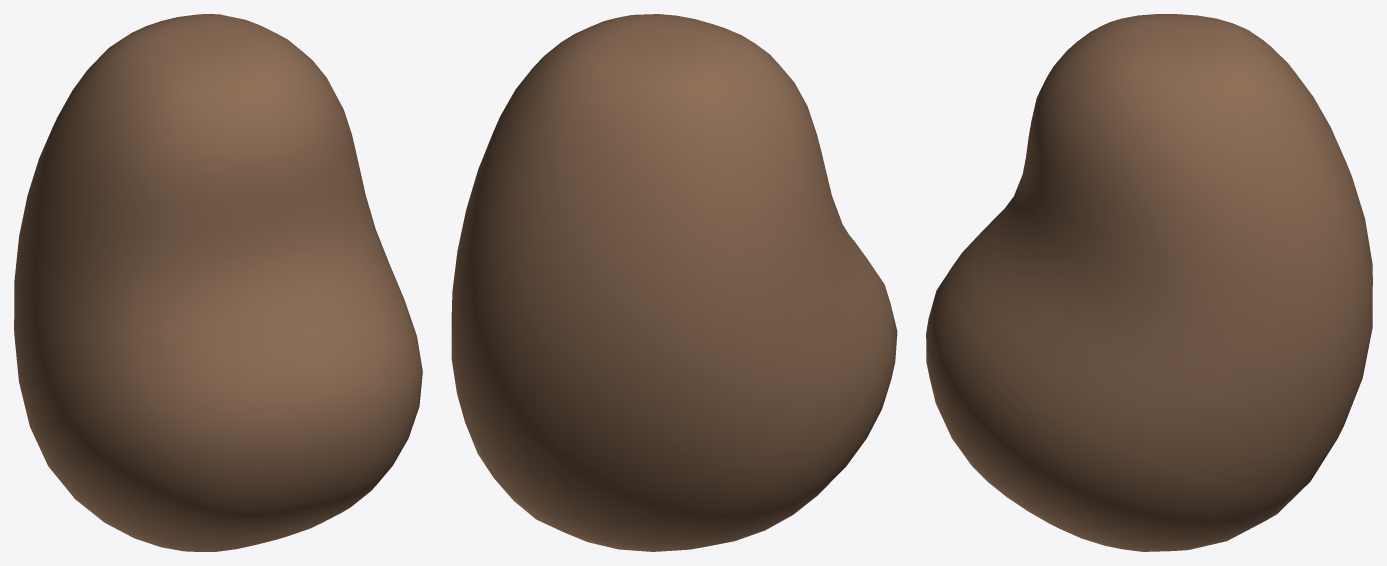
Rendered from potato_01.fbx.
3 renders of one model, left to right at view 1: azimuth 30°, elevation 25°; view 2: azimuth 150°, elevation 25°; view 3: azimuth 270°, elevation 25°, orthographic. The views are drawn at different scales.
Parts seen in each view (by area): view 1: Cube.042; view 2: Cube.042; view 3: Cube.042.
Part boxes in pixels (bbox=[...]): Cube.042: bbox=[14, 14, 422, 551]; Cube.042: bbox=[451, 14, 897, 551]; Cube.042: bbox=[926, 14, 1372, 551].
Size of the model in its own units: 37.48 by 49.39 by 40.76.
